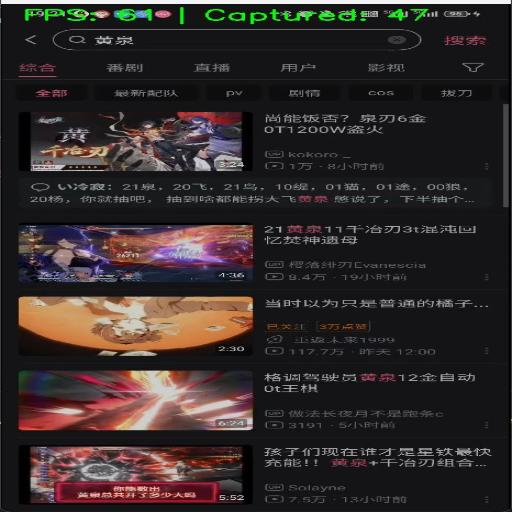back: (11, 28, 49, 46)
butten: (25, 99, 484, 208), (17, 294, 501, 366), (8, 220, 496, 286)
close: (370, 29, 410, 48)
input: (66, 26, 420, 52)
